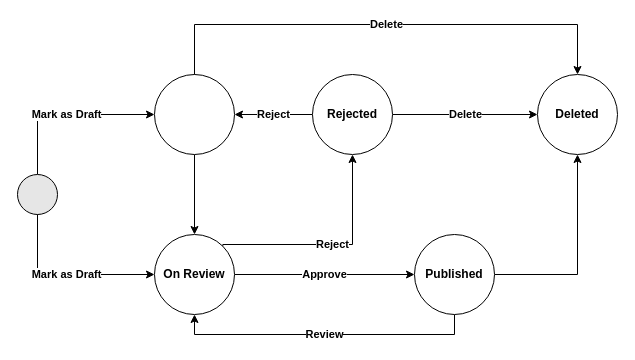
The diagram is 635 pixels wide and 360 high, and some of its shapes have lost their labels. The centre of each missing label's shape, as x and y in pixels:
"Draft" goes at (194,114).
"Start" goes at (37,194).
